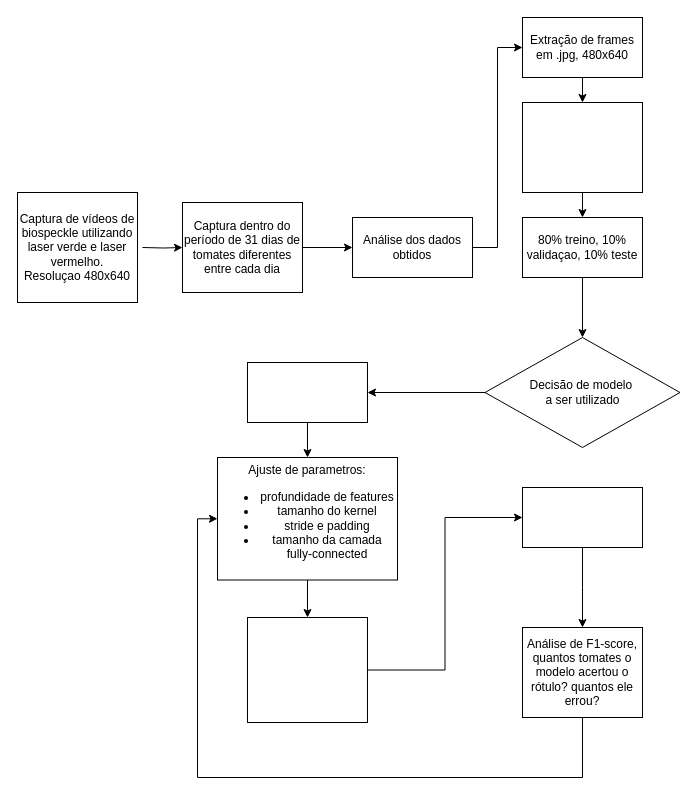
The diagram is 698 pixels wide and 803 high, and some of its shapes have lost their labels. The box of each missing label's shape, as (x1, y1, x2, y2) in pixels:
Modelo baseado em VGG16, com menos camadas convolucionais: (246, 362, 368, 422)
Preprocessamento: Grayscale, Resize 224x224, 50% flip, Normalização: (522, 102, 642, 192)
Treinamento: (246, 616, 368, 722)
Validação com conjunto de teste: (522, 486, 642, 548)
